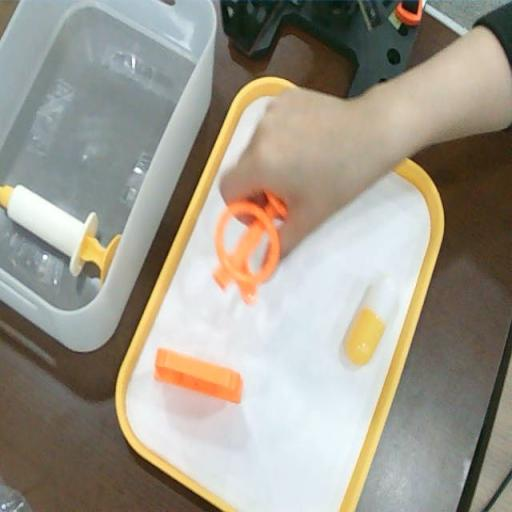hospital: (223, 90, 380, 236)
